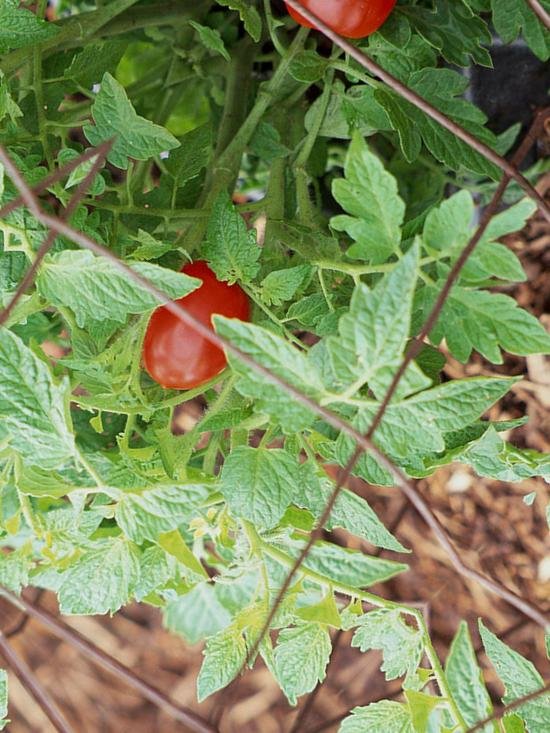Tomato leaf: (337, 298, 529, 491), (8, 183, 199, 374), (291, 234, 477, 420), (353, 36, 530, 213), (296, 127, 452, 284), (0, 299, 118, 481), (414, 260, 550, 415), (271, 493, 414, 635), (197, 294, 337, 432), (30, 509, 166, 645), (201, 425, 323, 547), (171, 184, 290, 304), (176, 612, 280, 717), (250, 606, 352, 708)
